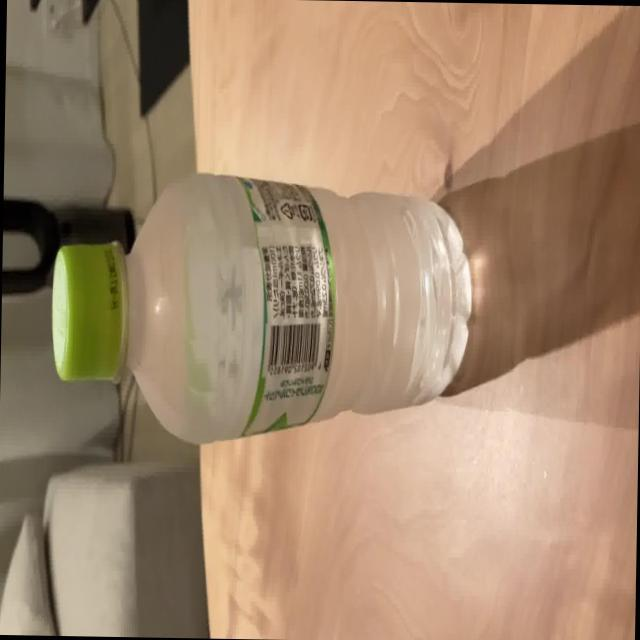good: (41, 168, 470, 455)
